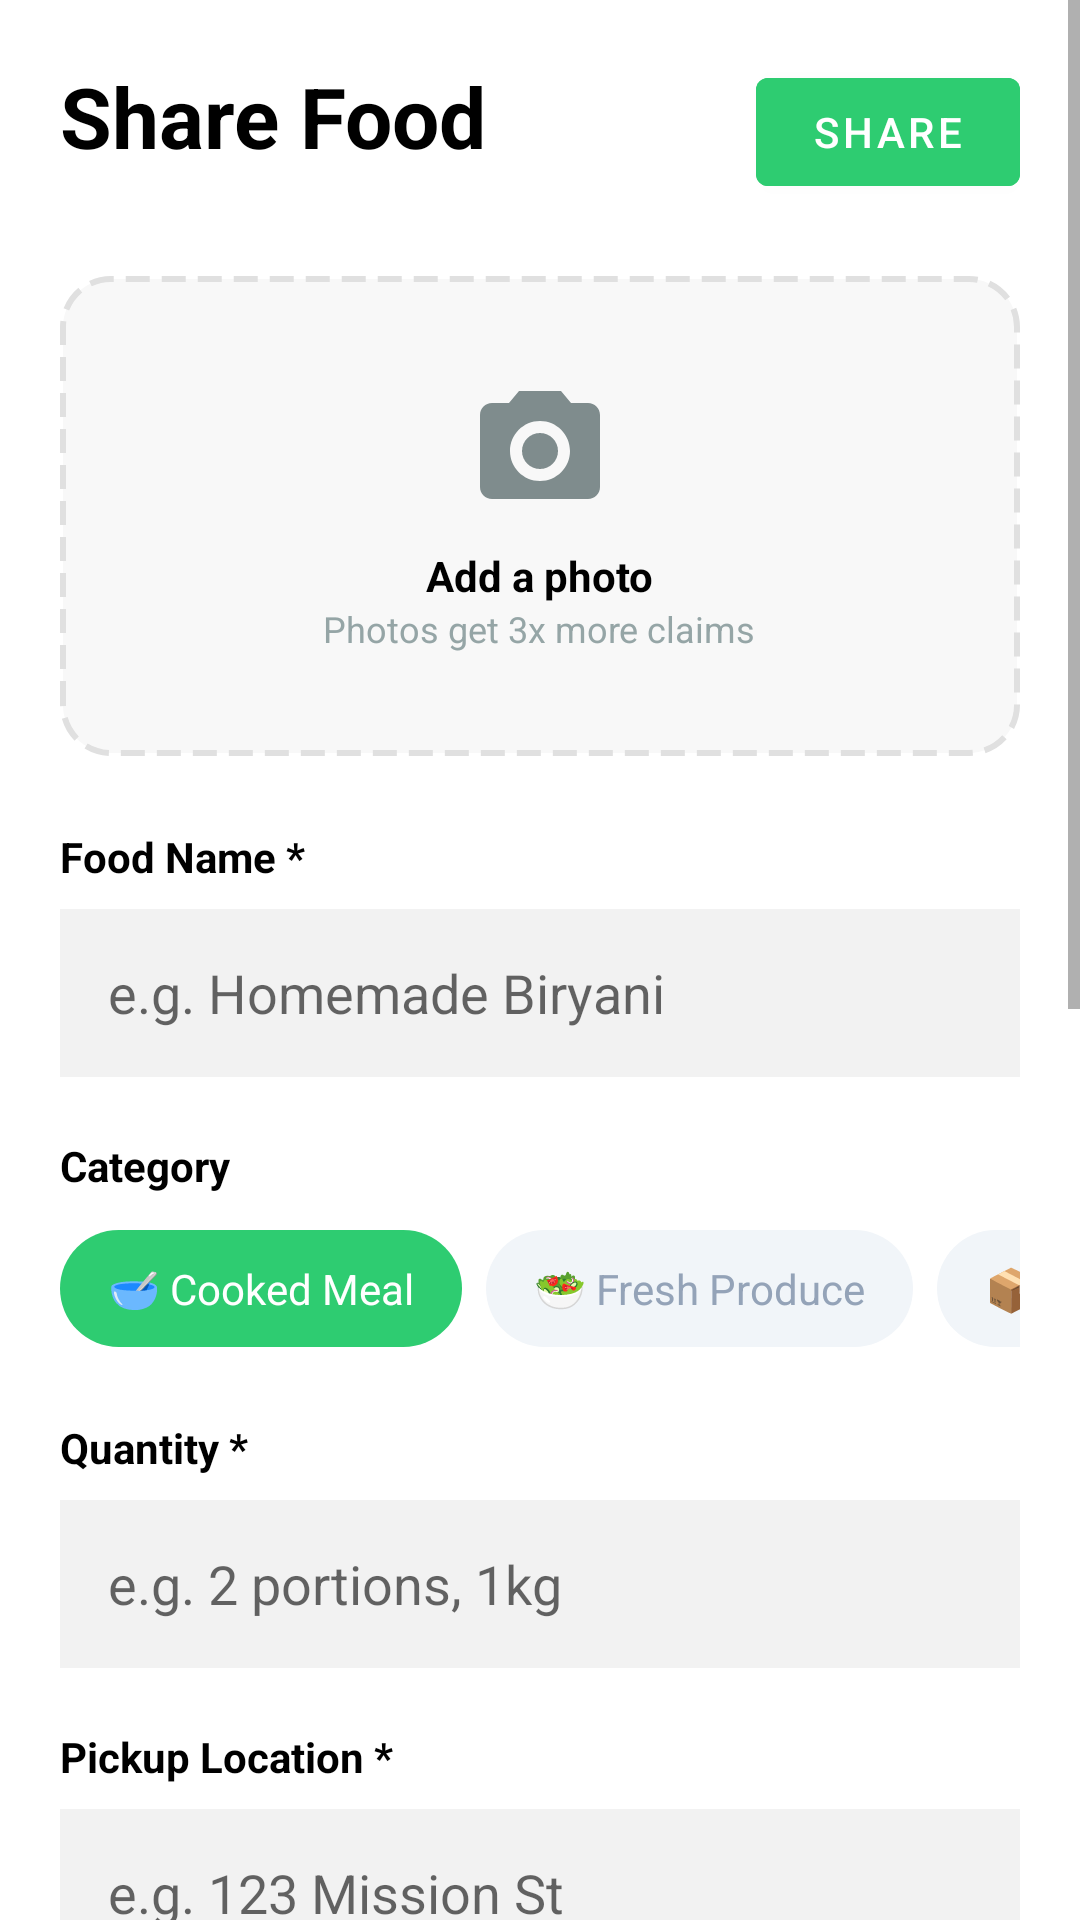

Icon bounding boxes for this 1080x1920 phone screenshot, format (x1, y1, x2, y2):
camera: (480, 391, 600, 499)
